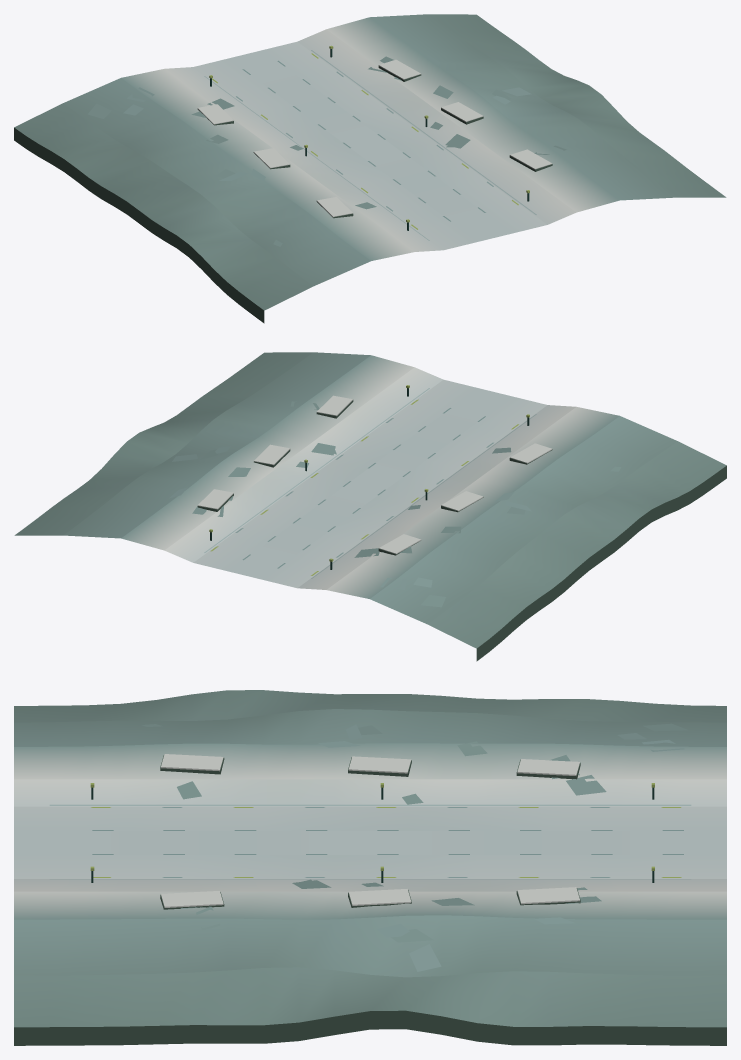
File: 06-village.glb
3 renders of one model, top to bottom at view 1: azimuth 30°, elevation 25°; view 2: azimuth 150°, elevation 25°; view 3: azimuth 270°, elevation 25°, orthographic. The views are drawn at different scales.
Parts seen in each view (by area): view 1: village; view 2: village; view 3: village.
Boxes of the visible parts, box(x1,y1,x2,y2) form: village: box(14, 14, 726, 323); village: box(14, 352, 726, 661); village: box(14, 690, 726, 1045).
Size of the model in its own units: 32 by 2.76 by 30.
